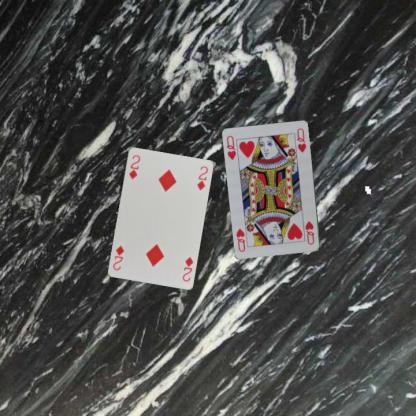2d: (126, 152, 141, 180), (180, 254, 194, 283)
Qh: (224, 133, 238, 161), (303, 219, 316, 246)
